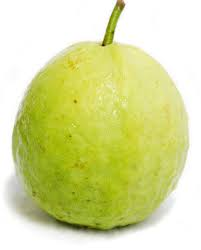guava: (11, 1, 192, 229)
